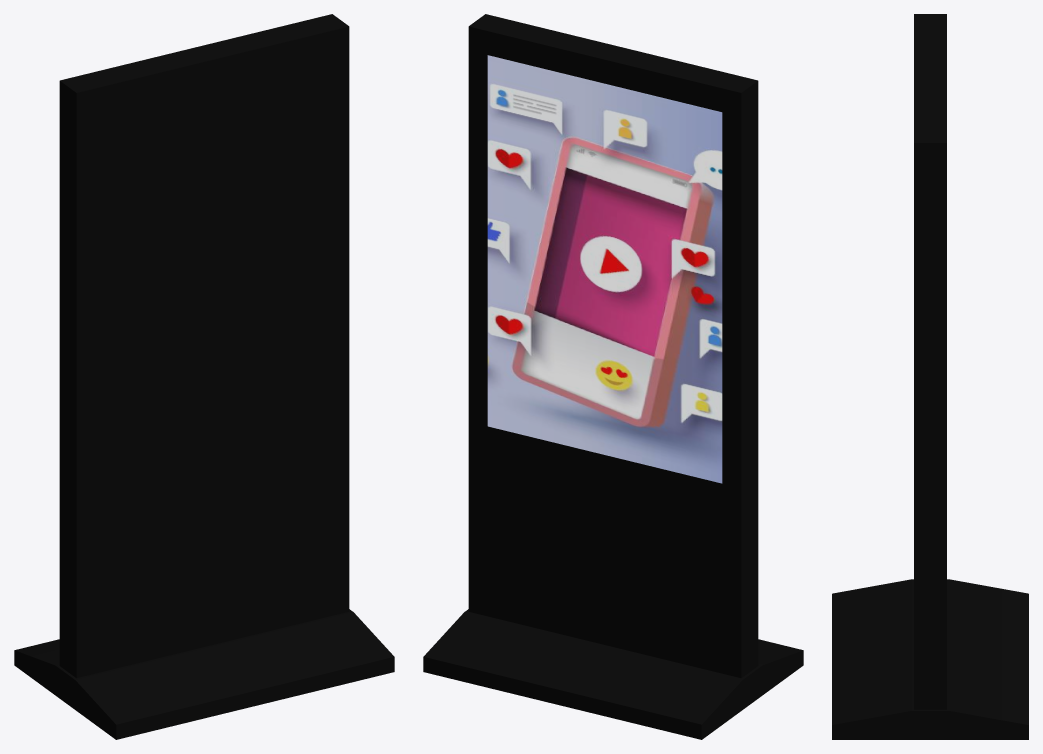
File: digital_display_standee_sketchfab_export.glb
The picture shows the model from 3 angles, left to right: view 1: azimuth 30°, elevation 25°; view 2: azimuth 150°, elevation 25°; view 3: azimuth 270°, elevation 25°; orthographic projection. The views are drawn at different scales.
Parts seen in each view (by area): view 1: Digital Display Standee_0; view 2: Digital Display Standee_0; view 3: Digital Display Standee_0.
Boxes of the visible parts, x1,y1,x2,y2 form: Digital Display Standee_0: (14, 14, 394, 739); Digital Display Standee_0: (423, 14, 803, 739); Digital Display Standee_0: (832, 14, 1028, 739).
Bounding box in the file's own units: 0.7713 × 1.63 × 0.4882.
Materials: 2 (1 with a texture image).
